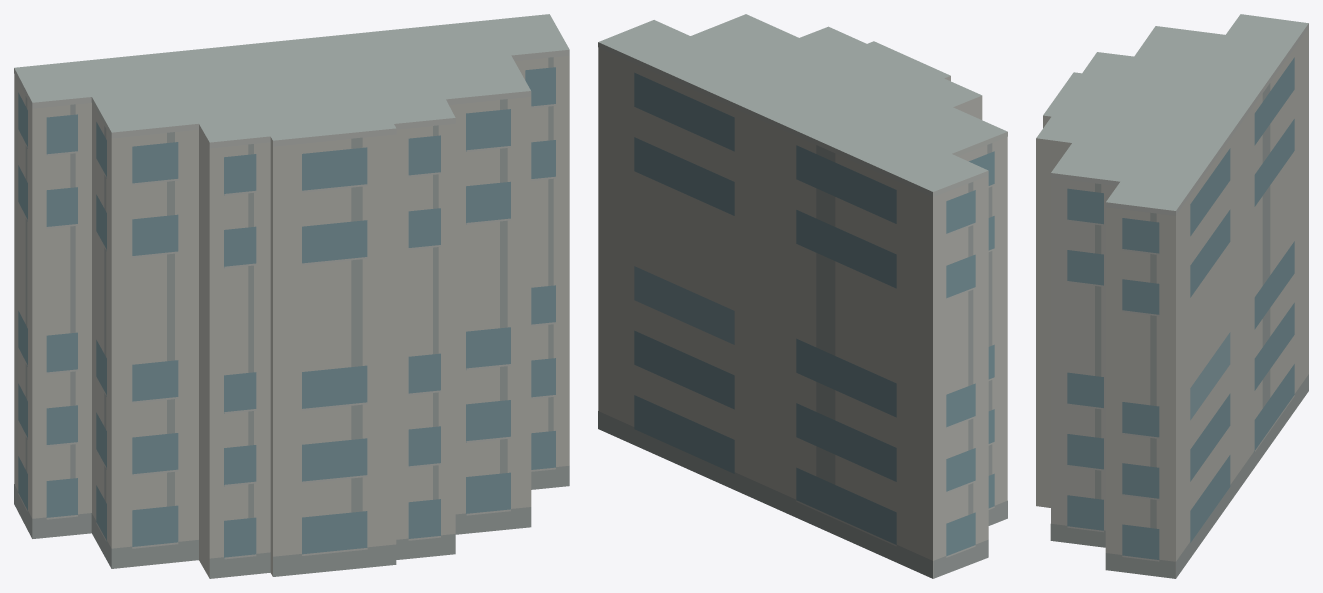
File: survey-upis-32620807.glb
3 views of the same model, side by side, from view 1: azimuth 30°, elevation 25°; view 2: azimuth 150°, elevation 25°; view 3: azimuth 270°, elevation 25° (orthographic). The views are drawn at different scales.
Visible parts, largest first — view 1: survey-upis-32620807.tmp; view 2: survey-upis-32620807.tmp; view 3: survey-upis-32620807.tmp.
Part boxes in pixels (x1=…): survey-upis-32620807.tmp: x1=14, y1=14, x2=569, y2=578; survey-upis-32620807.tmp: x1=598, y1=14, x2=1007, y2=578; survey-upis-32620807.tmp: x1=1036, y1=14, x2=1308, y2=578.
Bounding box in the file's own units: 21.03 × 18.3 × 12.31.
